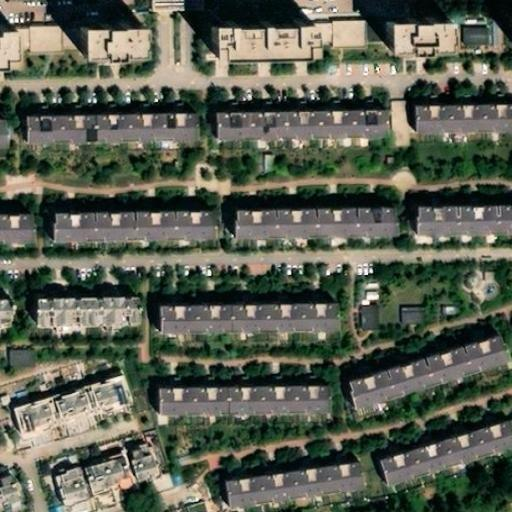building: (350, 345, 512, 418), (379, 433, 512, 492), (18, 379, 129, 438), (55, 452, 161, 512), (56, 218, 218, 254), (229, 470, 366, 512), (239, 217, 400, 251), (166, 313, 341, 344), (159, 393, 331, 424), (217, 119, 387, 149), (29, 125, 200, 154), (216, 36, 318, 76), (37, 307, 143, 342), (419, 214, 512, 246), (415, 113, 512, 143), (78, 39, 142, 77), (391, 34, 454, 69), (318, 29, 391, 57), (14, 33, 78, 63), (0, 209, 30, 242), (0, 471, 19, 511), (355, 301, 378, 330), (466, 38, 491, 63), (5, 345, 33, 366), (397, 302, 423, 323), (180, 499, 213, 512), (0, 293, 13, 325), (0, 113, 12, 146)
